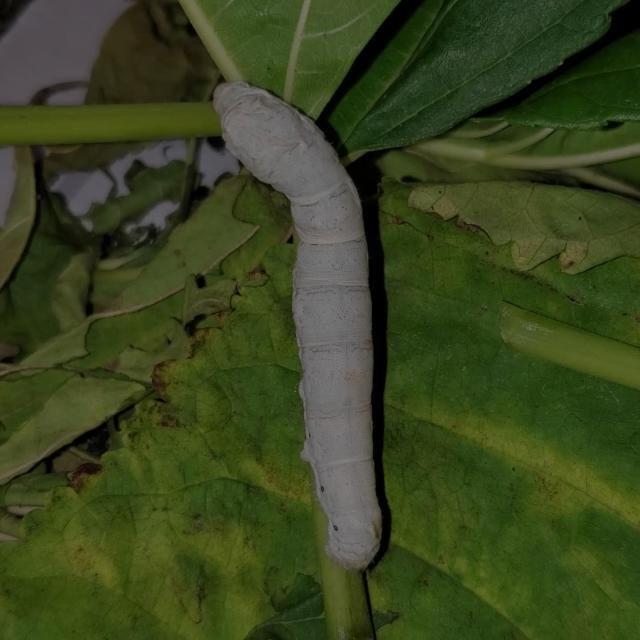Healthy: (208, 71, 406, 571)
